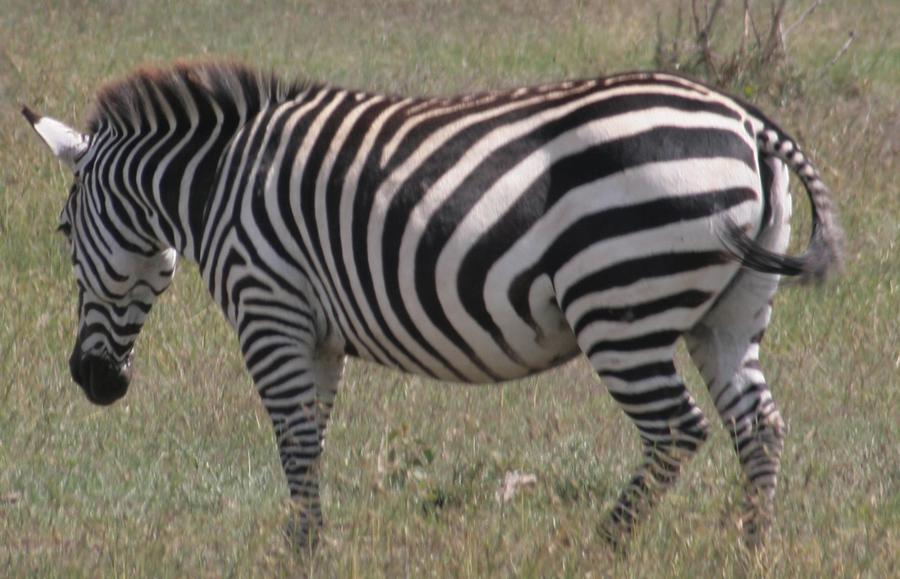zebra_plains: (186, 67, 715, 412)
